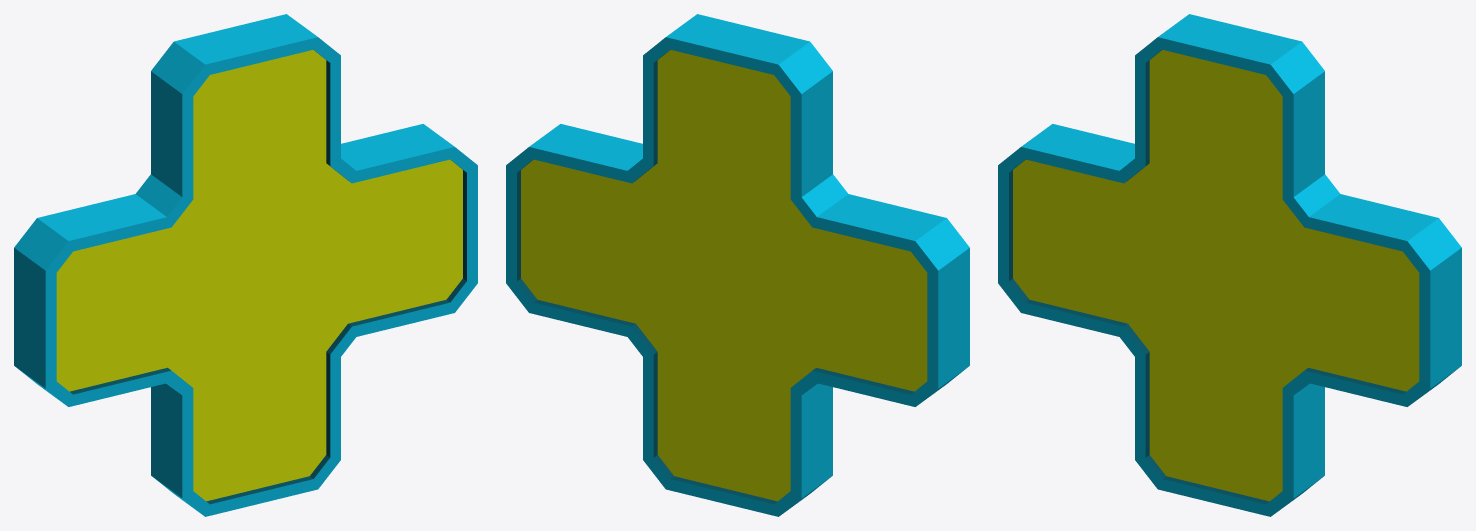
The picture shows the model from 3 angles, left to right: view 1: azimuth 30°, elevation 25°; view 2: azimuth 150°, elevation 25°; view 3: azimuth 330°, elevation 25°; orthographic projection.
Visible parts, largest first — view 1: HP_UP; view 2: HP_UP; view 3: HP_UP.
Part boxes in pixels (x1,y1,x2,y2): HP_UP: (14, 14, 477, 516); HP_UP: (506, 14, 969, 516); HP_UP: (998, 14, 1461, 516).
Bounding box in the file's own units: 632 × 632 × 80.
